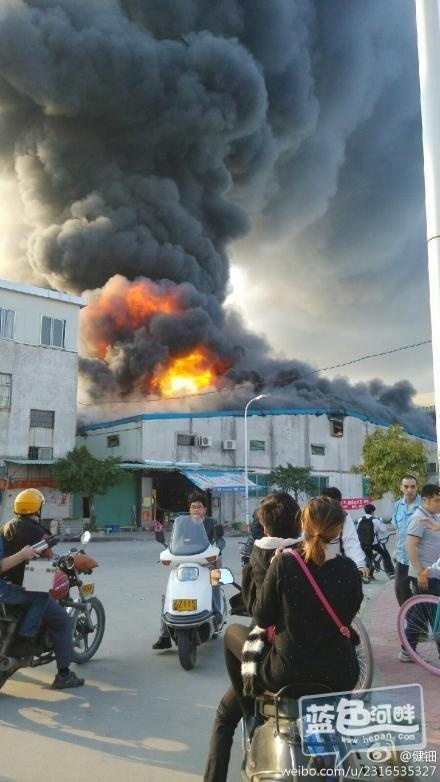fire: (153, 347, 217, 395)
